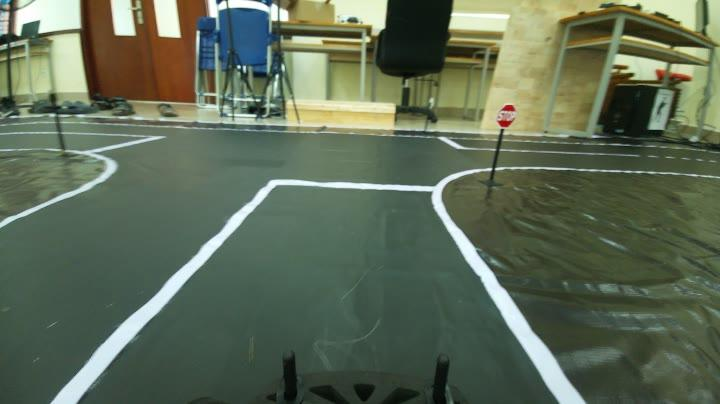stop: (493, 102, 524, 133)
